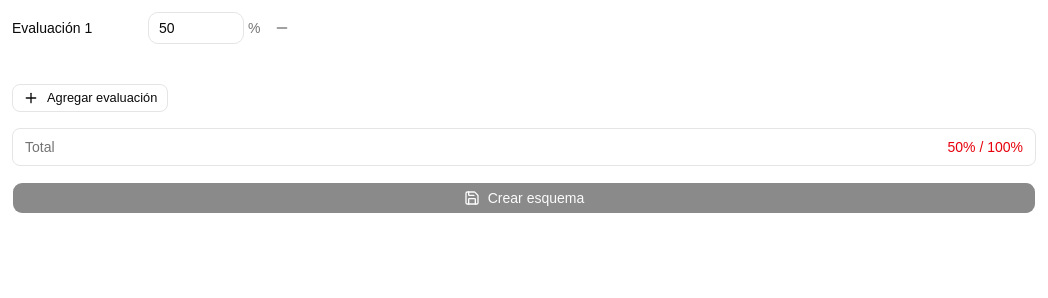
Test case: EvaluationSchemeForm — add/remove rows › adds a row when Agregar evaluación is clicked
The image size is (1048, 298).
Expected: the number of number fields is 1, x1=148 y1=12 x2=244 y2=44
Step 1. Click the button "Agregar evaluación" → (90, 98), box x1=12 y1=84 x2=168 y2=112
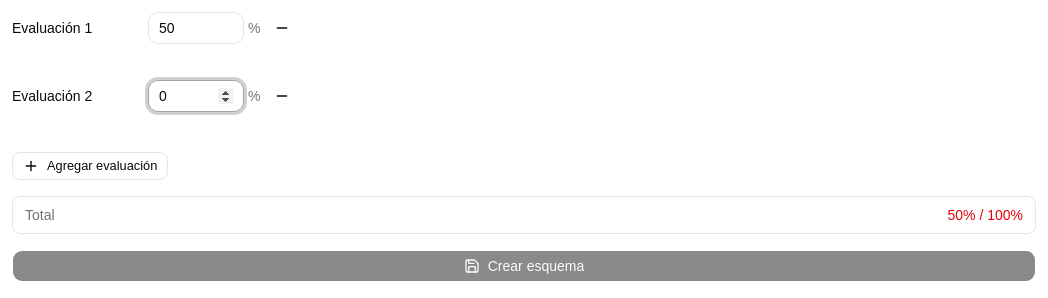
Expected: the number of number fields is 2, x1=148 y1=12 x2=244 y2=44; x1=148 y1=80 x2=244 y2=112
Now the text "Evaluación 2" is shown, box x1=12 y1=88 x2=92 y2=104
